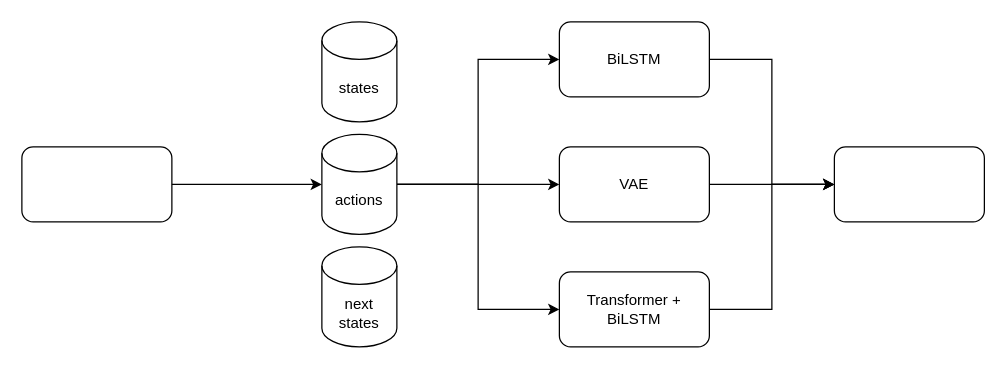
This 1006x369 diagram has some shape labels left out. The shapes that lost their labels are listed below. From the top down, each one's centre as x and y in pixels, then its label:
pixel 96 184: Dataset Generation (MuJoCo)
pixel 908 184: Model Selection
